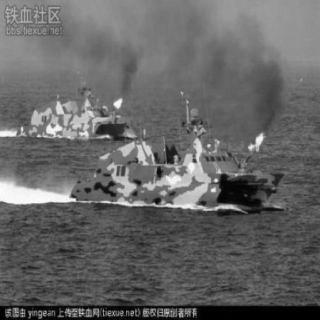Fire: (109, 88, 127, 115)
